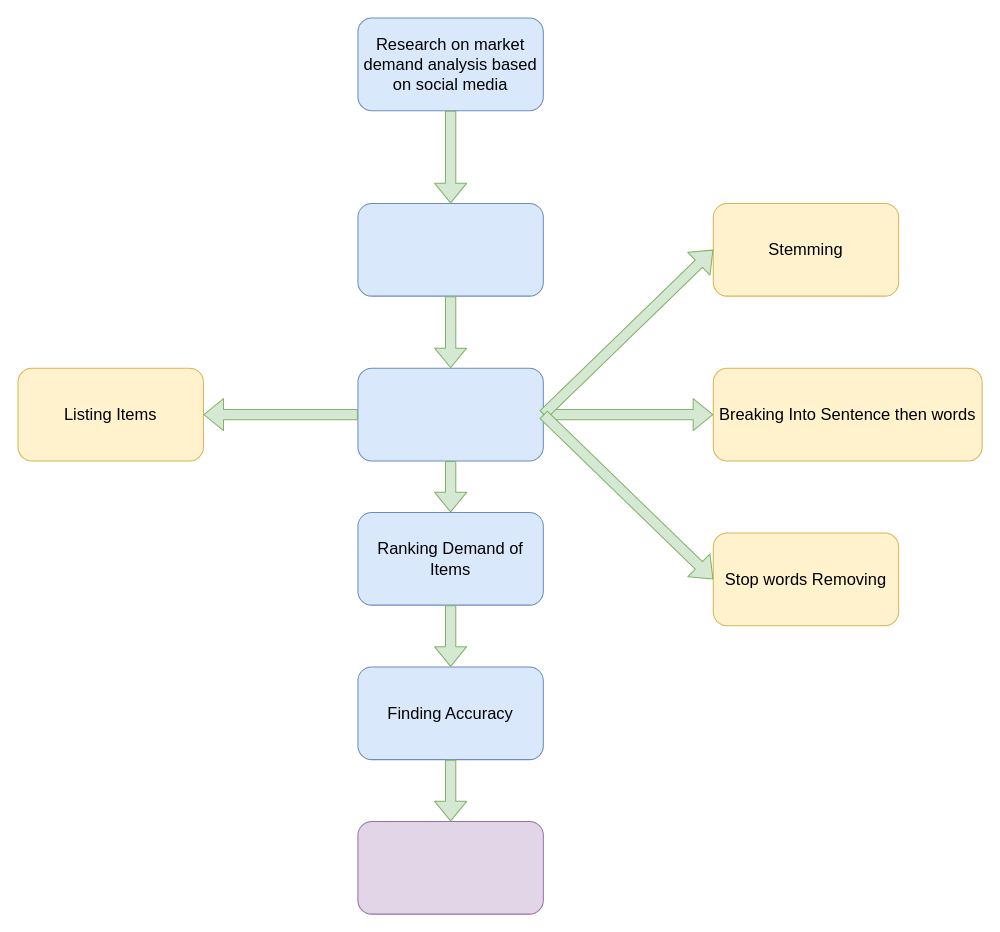
Some shapes in this 1000 by 932 pixel diagram are drawn without their labels. Each missing label, with the box of its shape:
Analysing Result: (357, 820, 543, 914)
Data Pre Processing: (357, 367, 543, 461)
Data Scraping from social sites: (357, 202, 543, 296)
